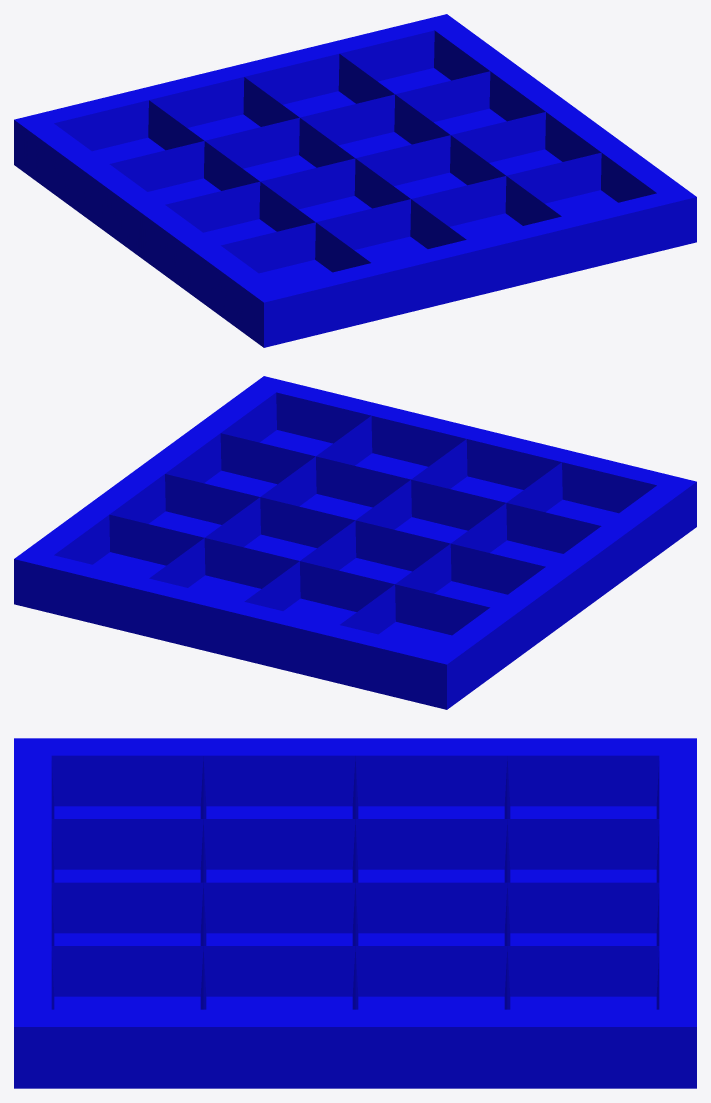
File: Chuck (Bin).fbx
3 views of the same model, one above another, from view 1: azimuth 30°, elevation 25°; view 2: azimuth 150°, elevation 25°; view 3: azimuth 270°, elevation 25° (orthographic). The views are drawn at different scales.
Parts seen in each view (by area): view 1: Cube.018; view 2: Cube.018; view 3: Cube.018.
Part boxes in pixels (x1,y1,x2,y2): Cube.018: (14,14,696,347); Cube.018: (14,376,696,709); Cube.018: (14,738,696,1088).
Bounding box in the file's own units: 25.4 × 2.54 × 25.4.
